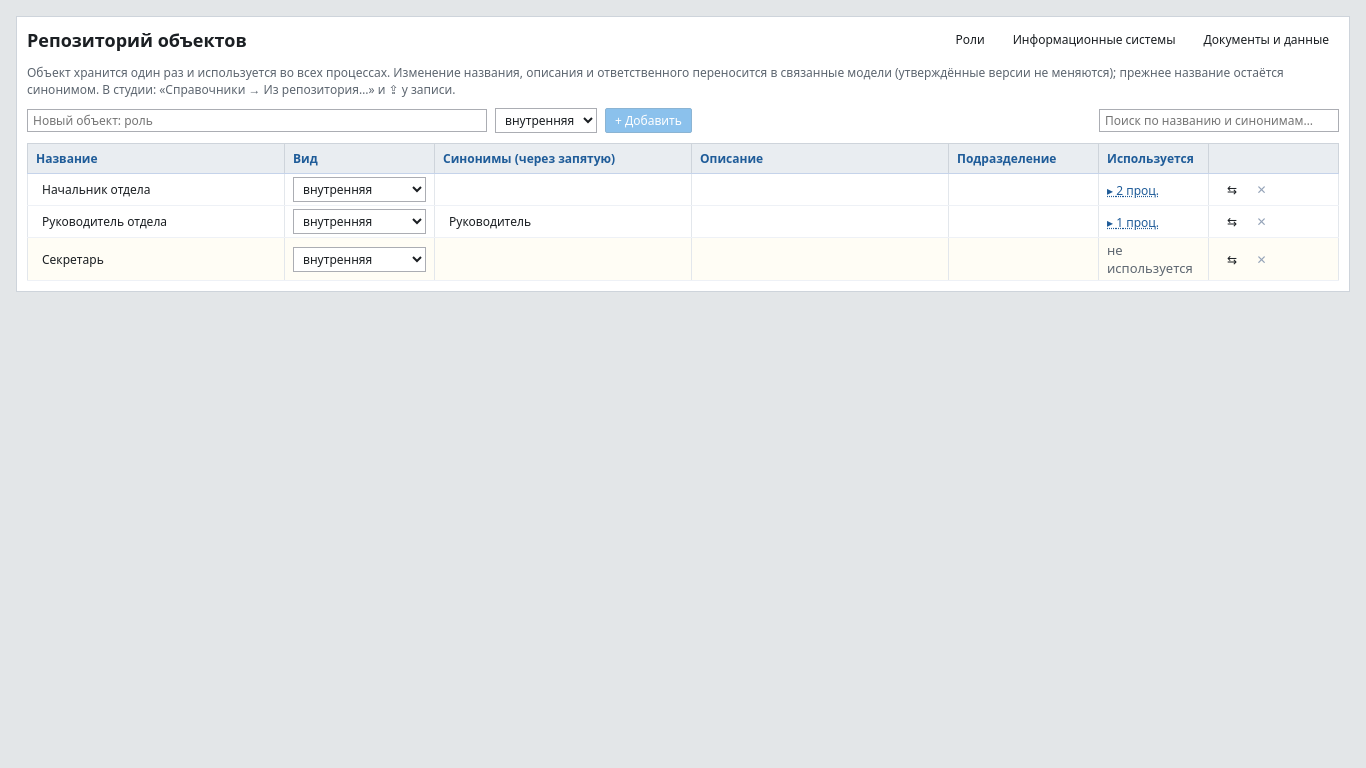
Test: репозиторий: слияние и удаление через диалог › если в процессе после слияния оказались две записи с одним названием — об этом сказано
Expected: the 1st field showing "Начальник отдела" is shown, [36,178,276,201]
Click the 1st button titled "Объединить с другим объектом (дубли)" at (1232, 190), box [1217,177,1247,202]
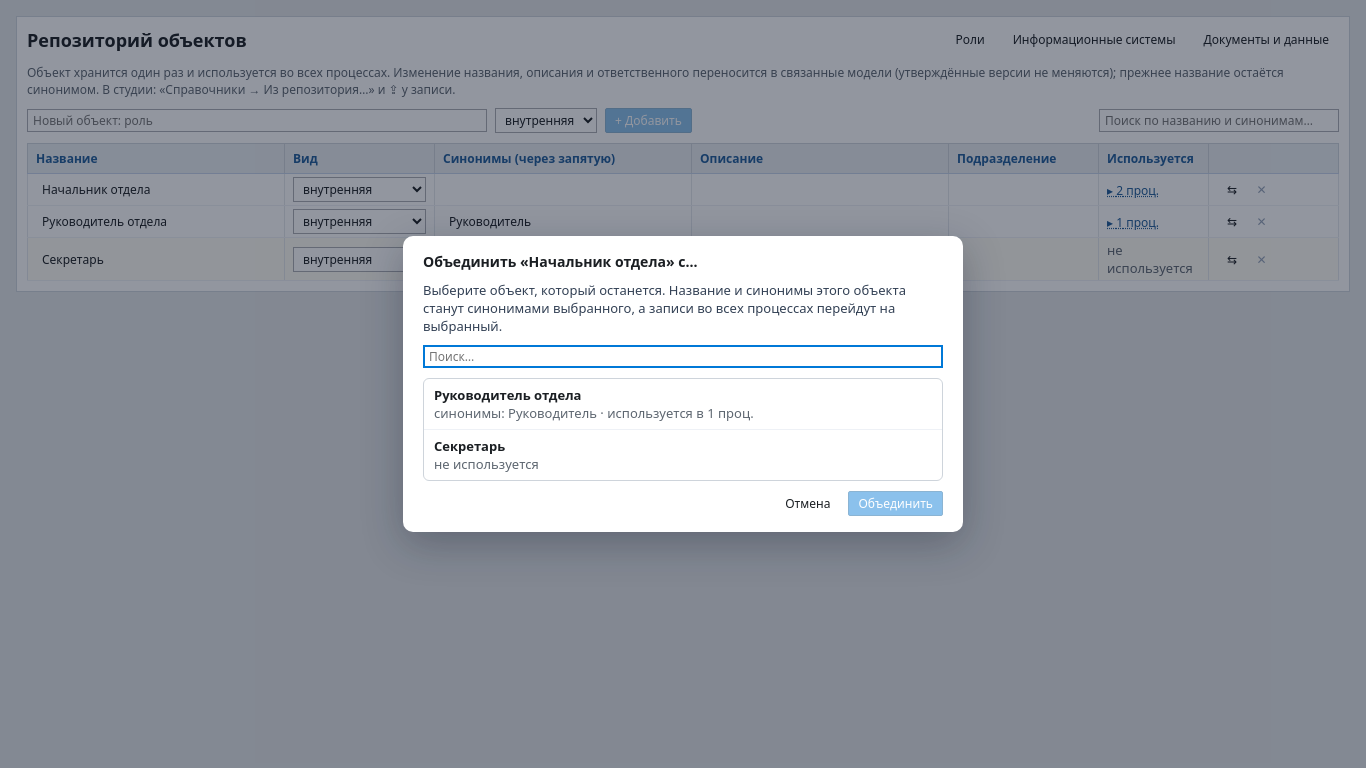
Click the text "Руководитель отдела" at (508, 395), box [434,386,581,404]
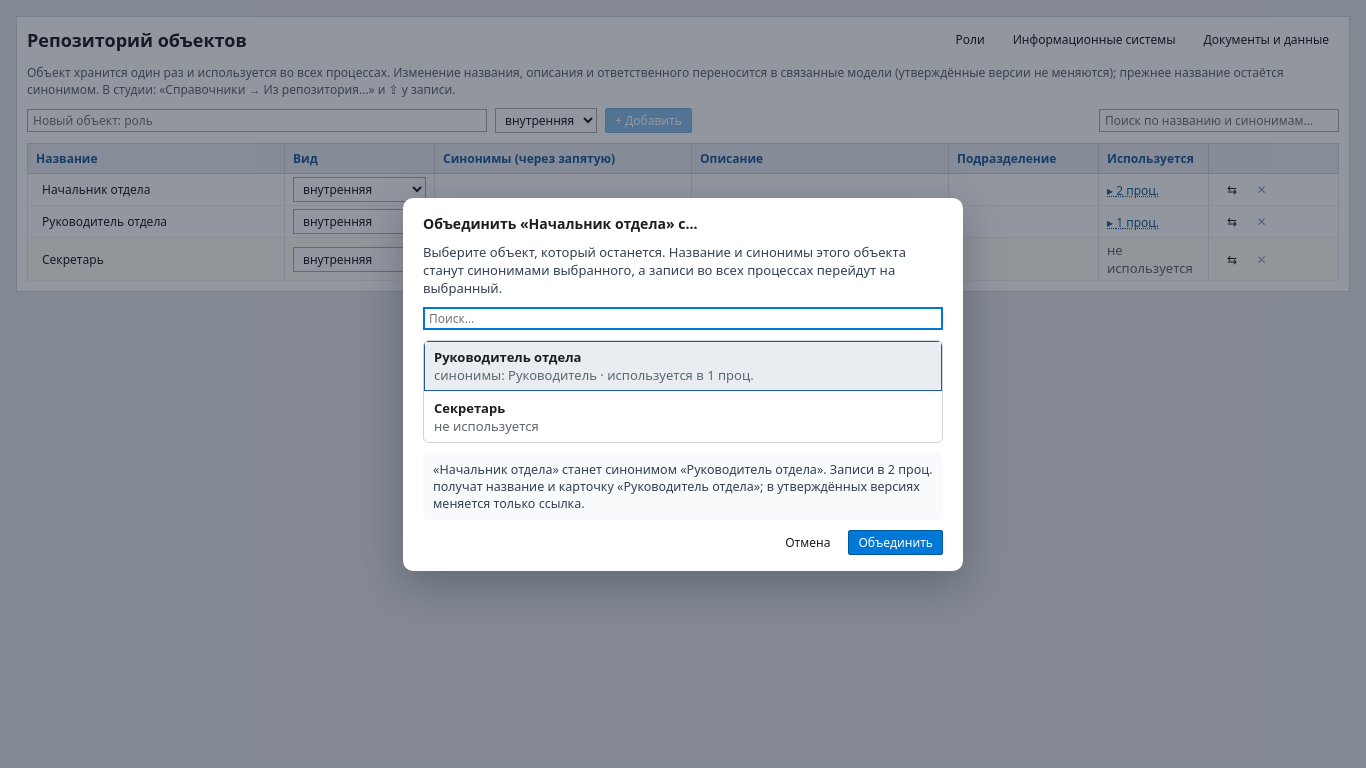
Click the button "Объединить" at (896, 542), box [848,530,943,554]
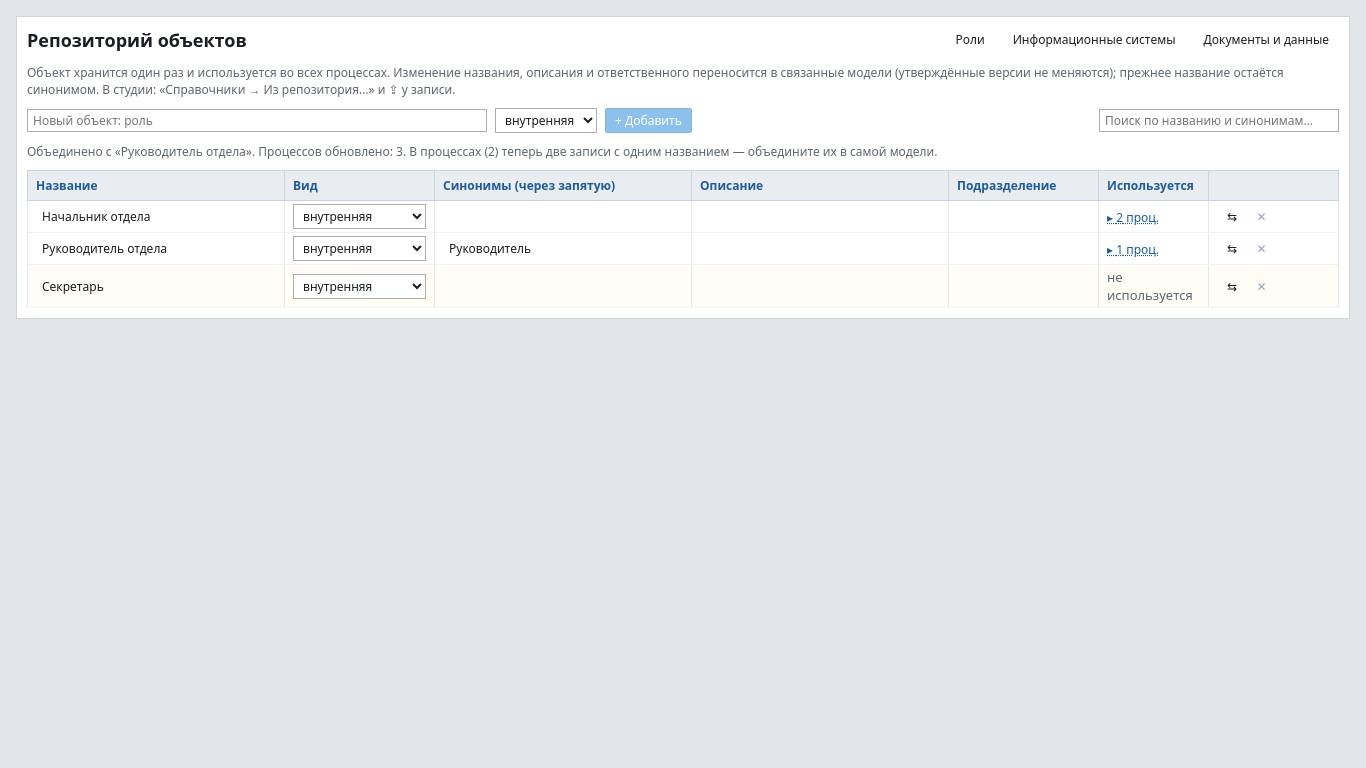
Expected: the text "В процессах (2) теперь две записи с одним названием — объедините их в самой модели" is shown, [27,143,938,160]
